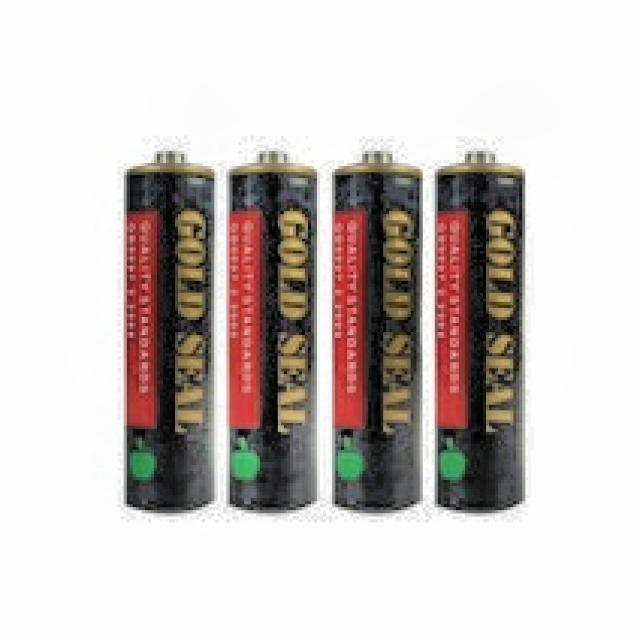Non-Valuable Waste - Batteries: (435, 153, 525, 510), (333, 152, 421, 510), (229, 153, 317, 510), (127, 152, 214, 510)
